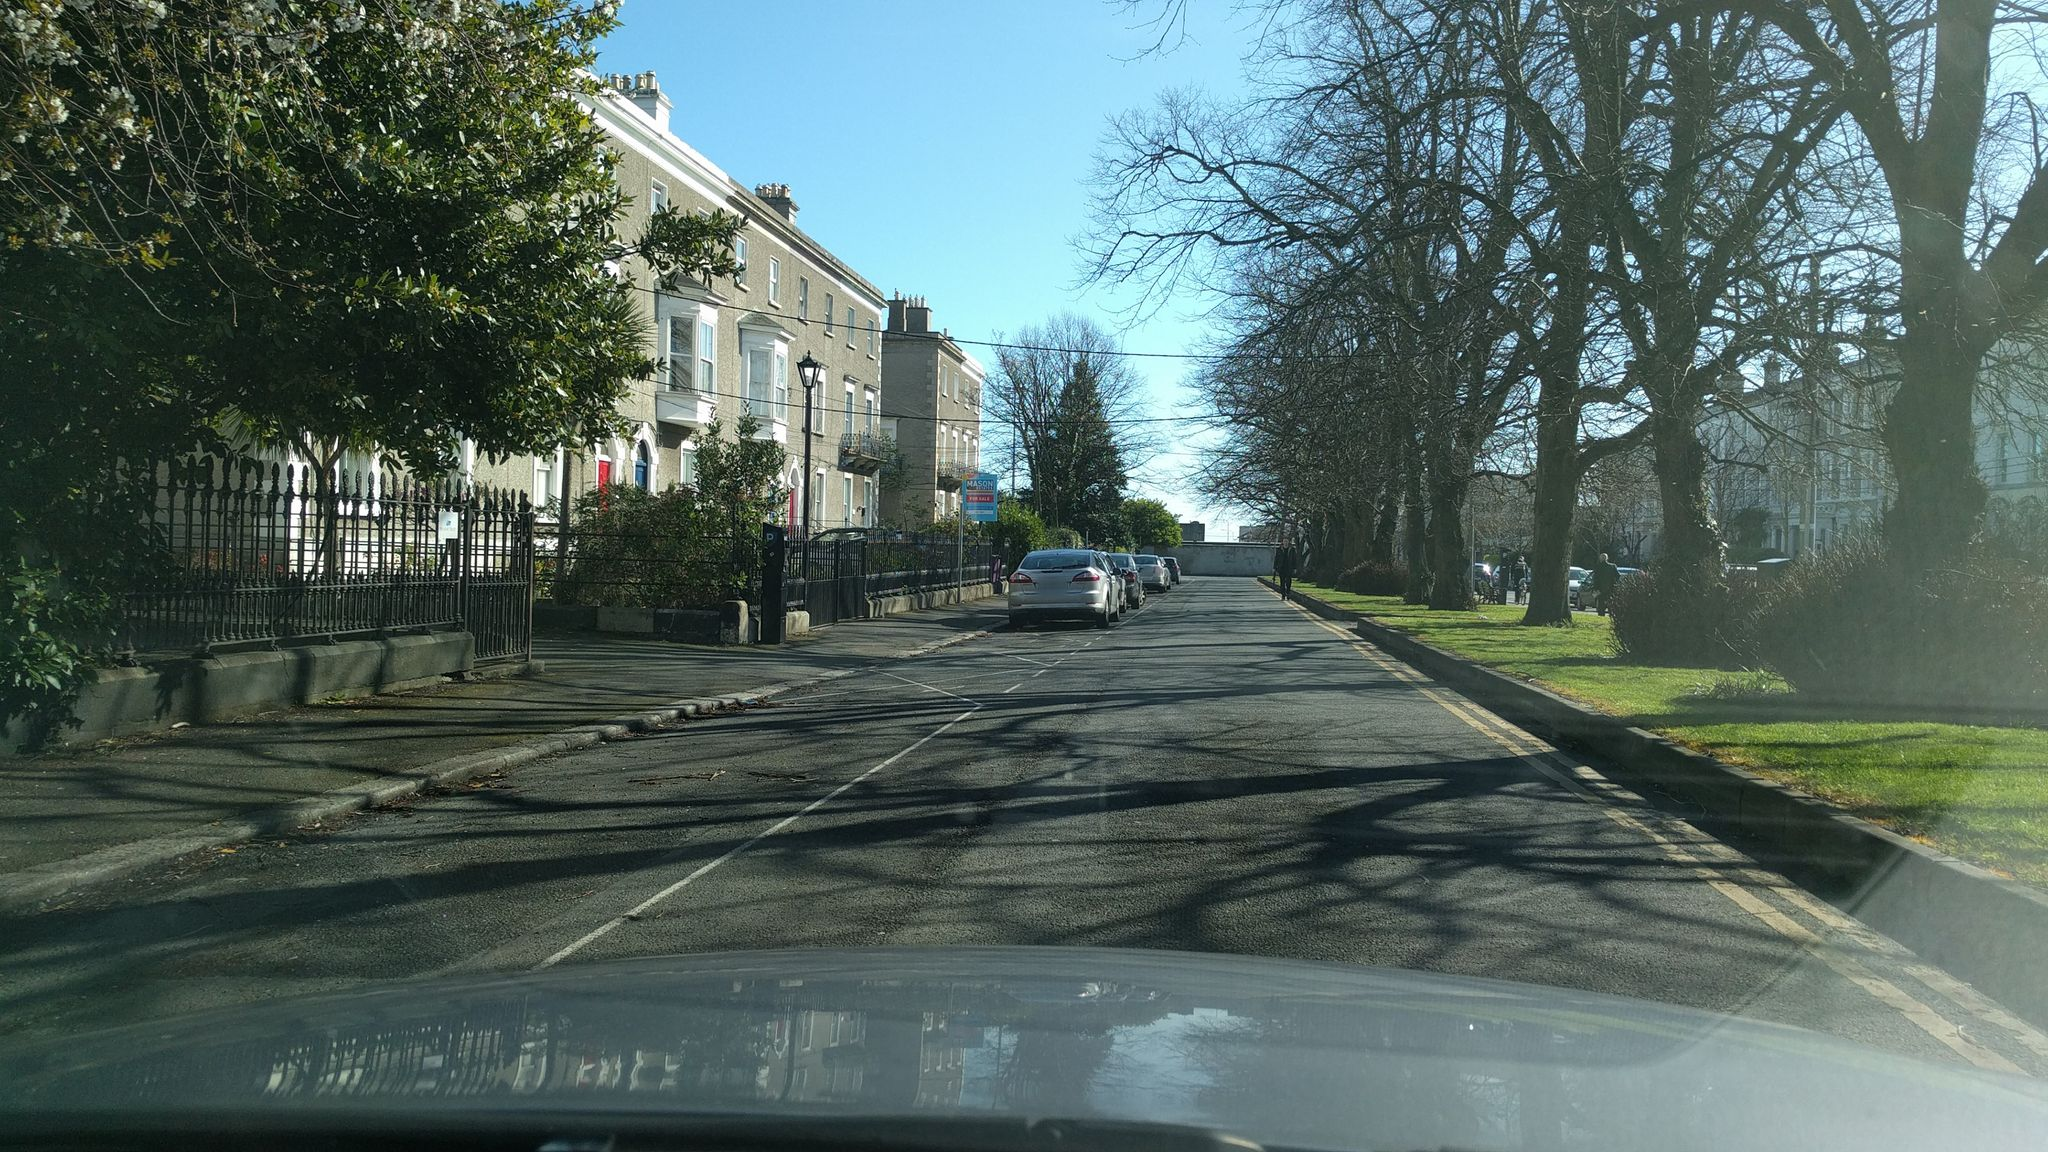property sign: (958, 461, 1013, 527)
